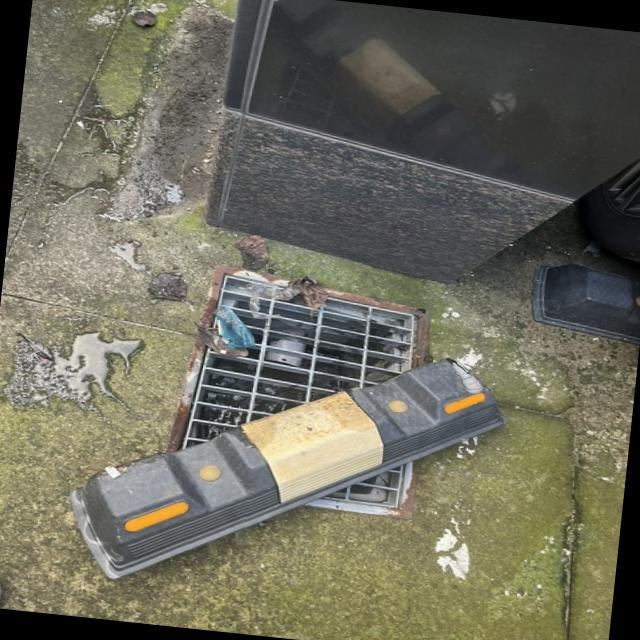drain_area: (180, 275, 414, 449), (321, 464, 405, 508)
drain_full: (174, 275, 416, 510)
